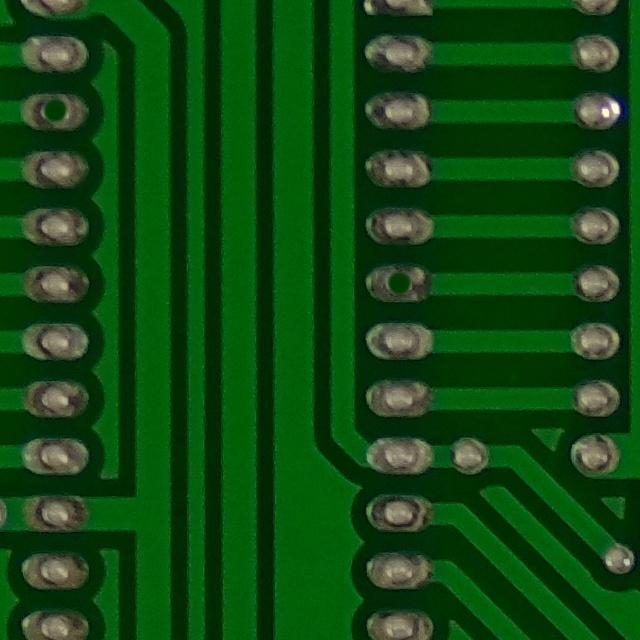missing_hole: (370, 256, 440, 317), (22, 84, 90, 145)
